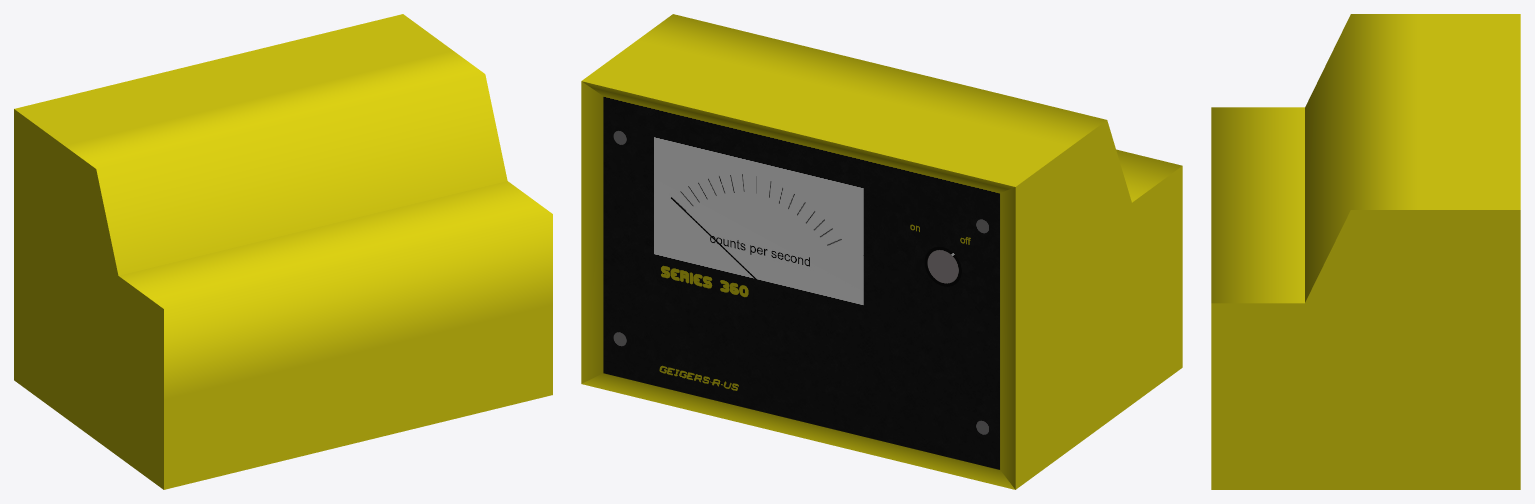
The model's file is GeigerCounter.fbx.
3 renders of one model, left to right at view 1: azimuth 30°, elevation 25°; view 2: azimuth 150°, elevation 25°; view 3: azimuth 270°, elevation 25°, orthographic. The views are drawn at different scales.
Parts seen in each view (by area): view 1: pCube1; view 2: pCube1; view 3: pCube1.
Part boxes in pixels (bbox=[...]): pCube1: bbox=[14, 14, 552, 489]; pCube1: bbox=[581, 14, 1182, 489]; pCube1: bbox=[1211, 14, 1520, 489].
Bounding box in the file's own units: 0.75 × 0.5 × 0.5.
Materials: 1 (1 with a texture image).
